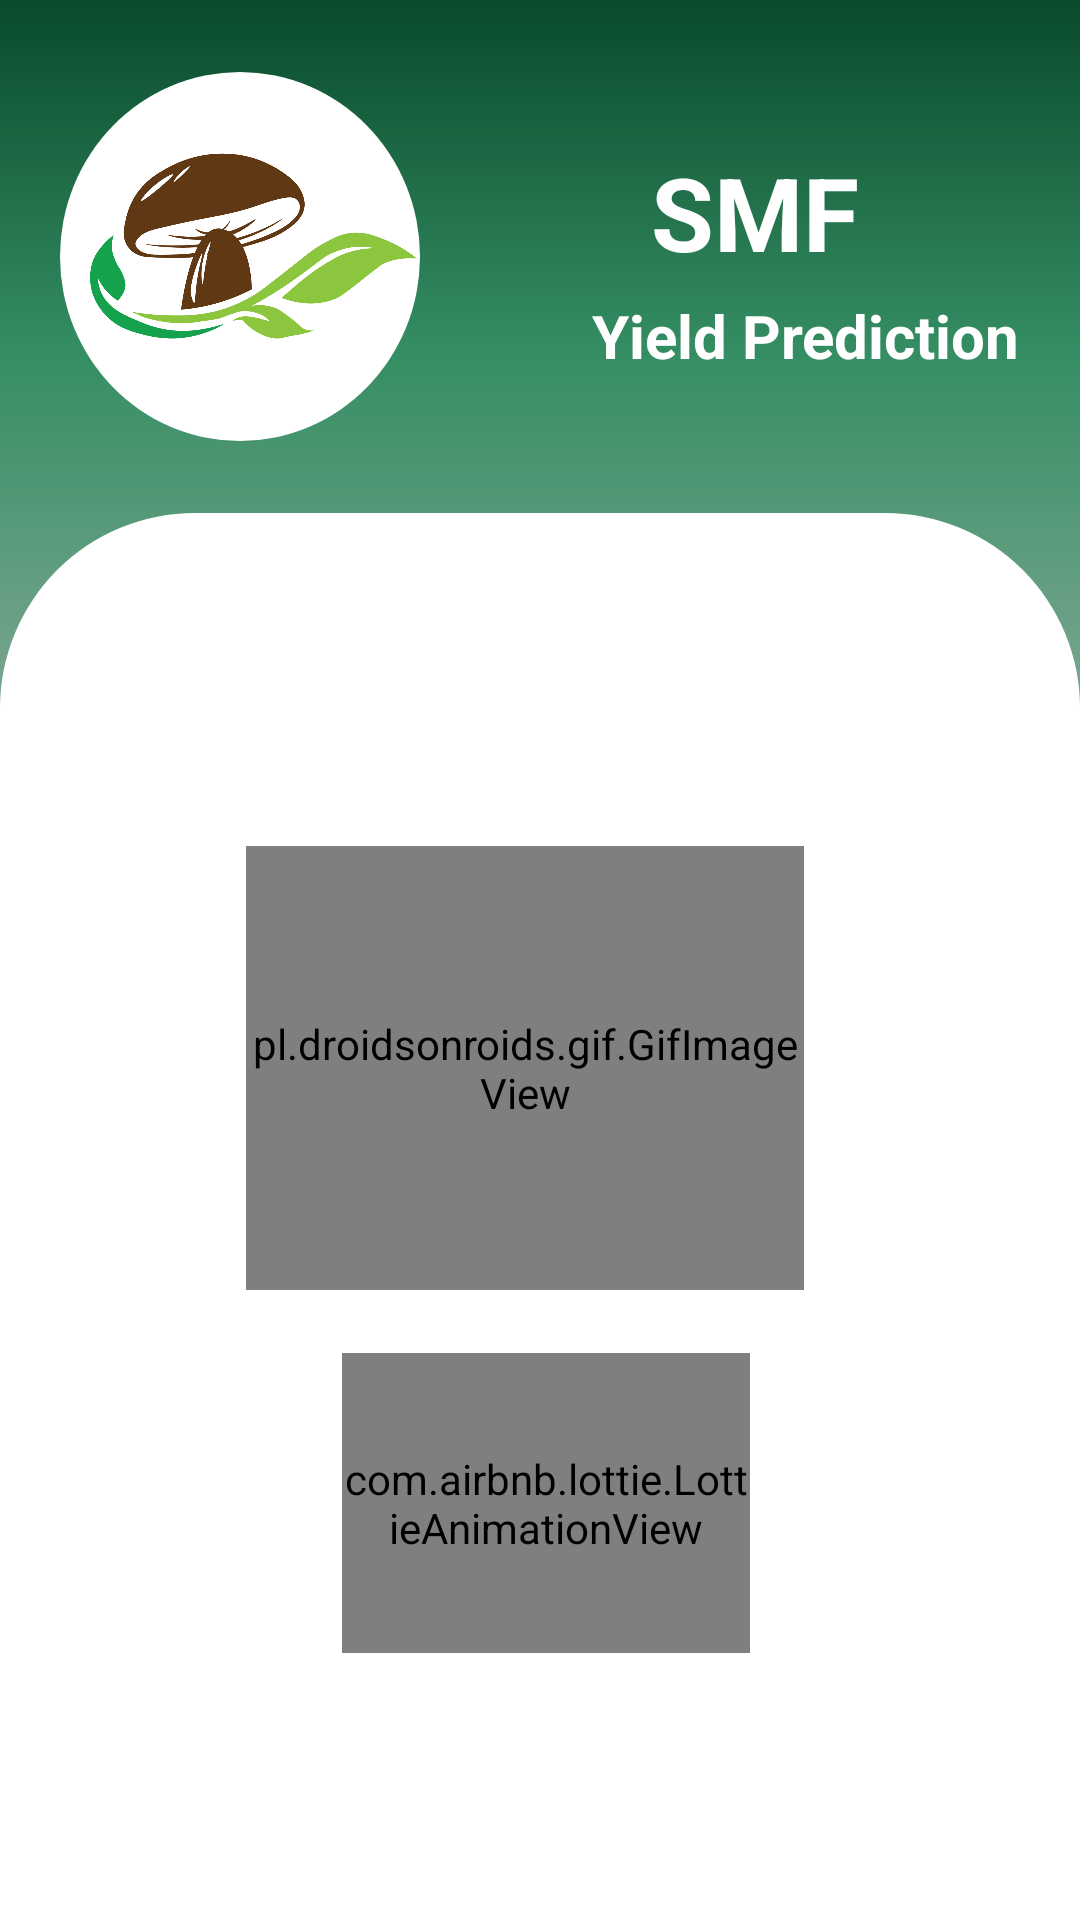

Point at icon controls on the screen. Image size 1080w x 1920h, points as point (x, y).
mashroom: point (253, 246)
